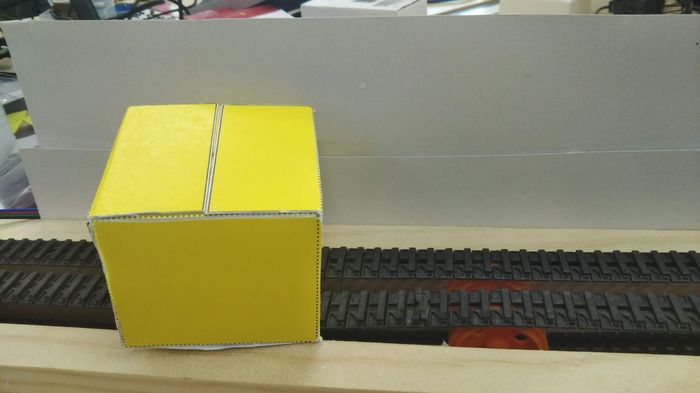box4: (82, 95, 330, 354)
